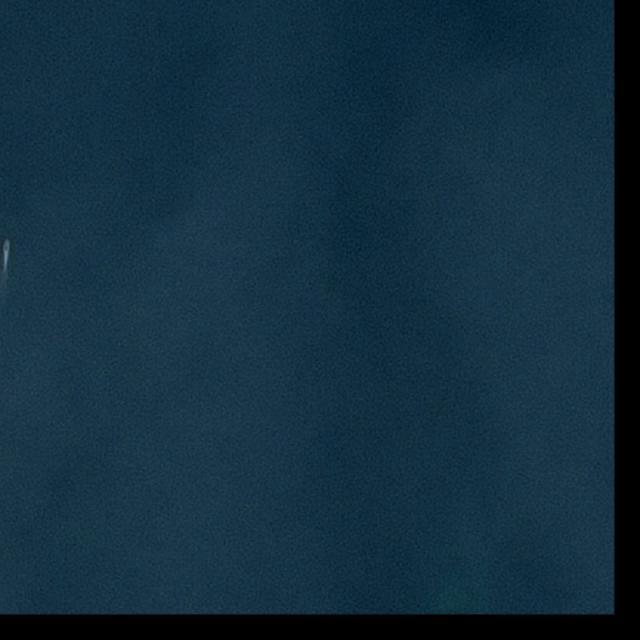ship: (4, 239, 10, 253)
